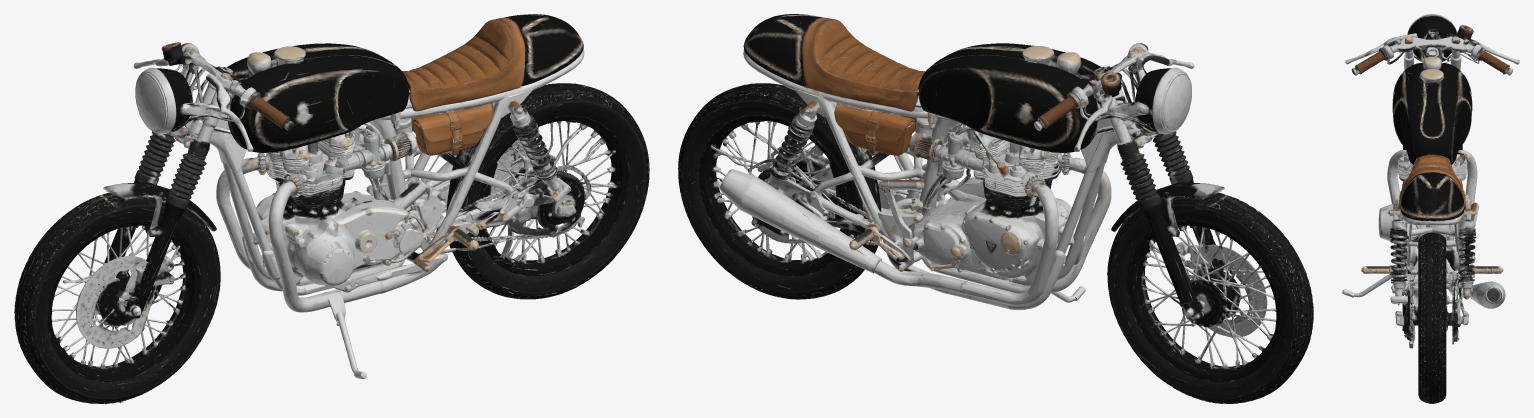
The model's file is bike.glb.
3 views of the same model, side by side, from view 1: azimuth 30°, elevation 25°; view 2: azimuth 150°, elevation 25°; view 3: azimuth 270°, elevation 25° (orthographic). The views are drawn at different scales.
Visible parts, largest first — view 1: Mesh_0; view 2: Mesh_0; view 3: Mesh_0.
Boxes of the visible parts, <box> form: Mesh_0: <box>14,14,649,403</box>; Mesh_0: <box>678,14,1313,403</box>; Mesh_0: <box>1342,14,1519,403</box>.
Bounding box in the file's own units: 1.9 × 0.9323 × 0.6198.
1 material, 1 textured.
